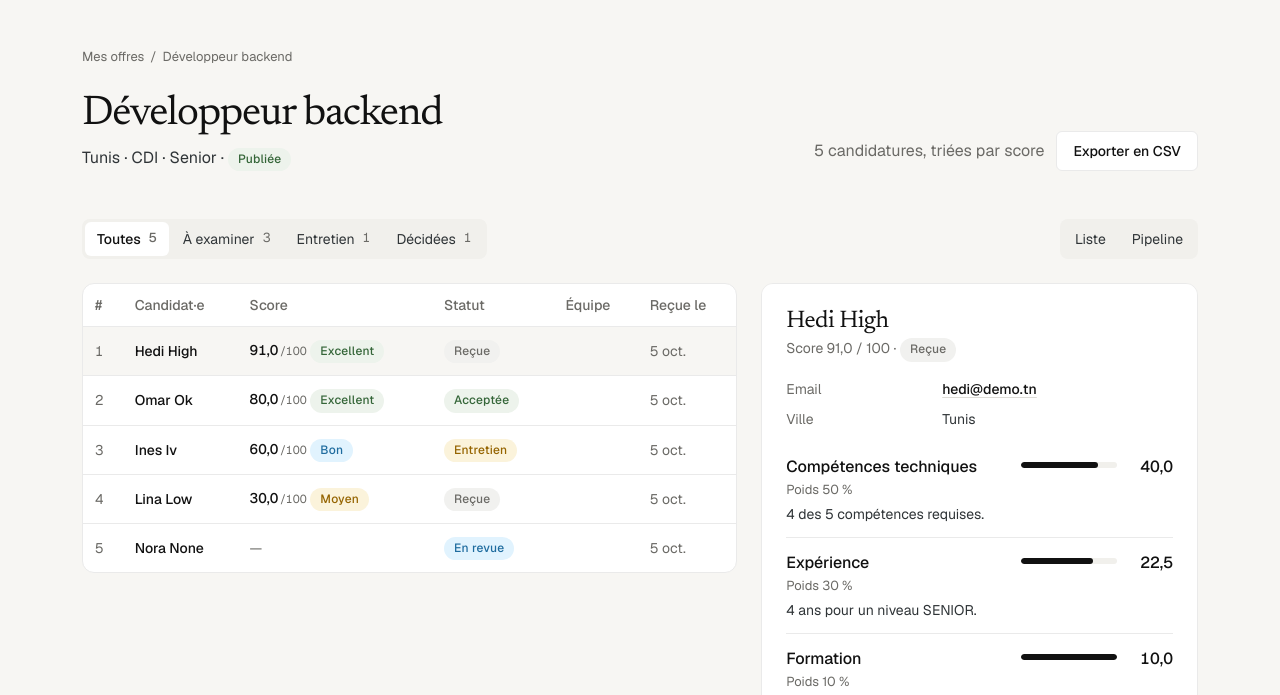
status changes › offers acceptance or rejection after an interview and nothing once decided
Click the row "3 Ines Iv 60,0 /100 Bon Entretien 5 oct.".
click(410, 450)  # box [83,425,736,474]
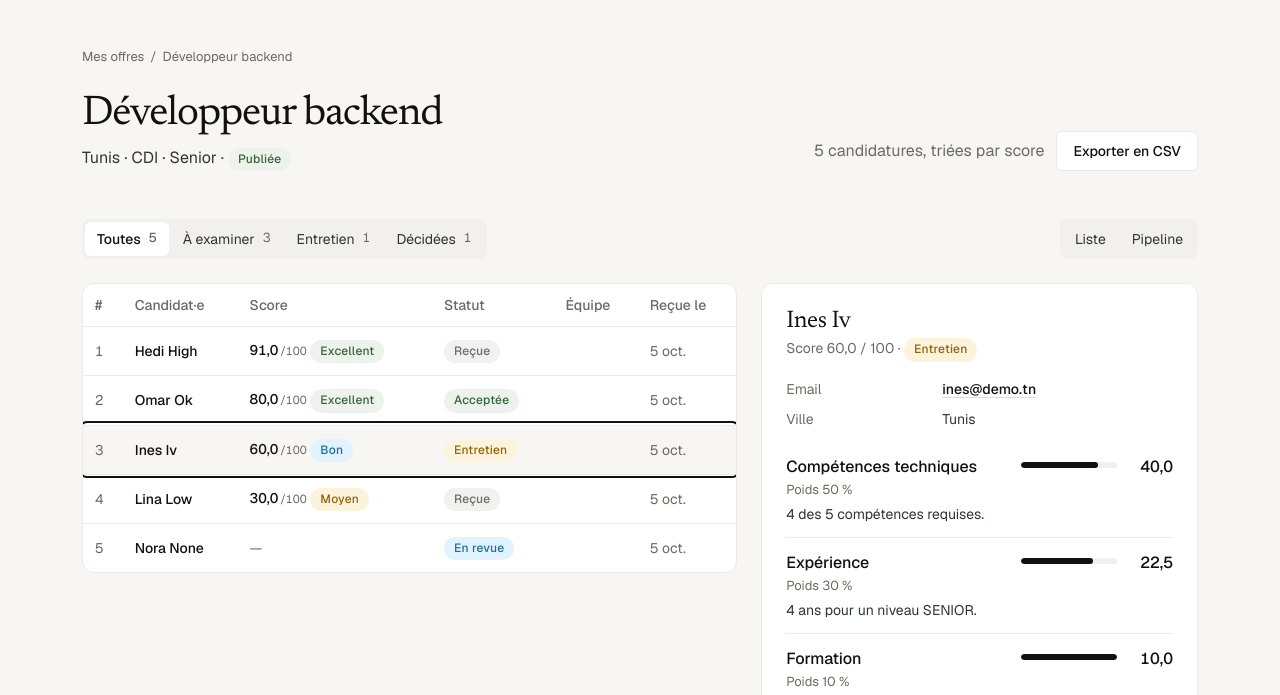
Click the row "2 Omar Ok 80,0 /100 Excellent Acceptée 5 oct.".
click(410, 401)  # box [83,376,736,425]
(page scrolled)
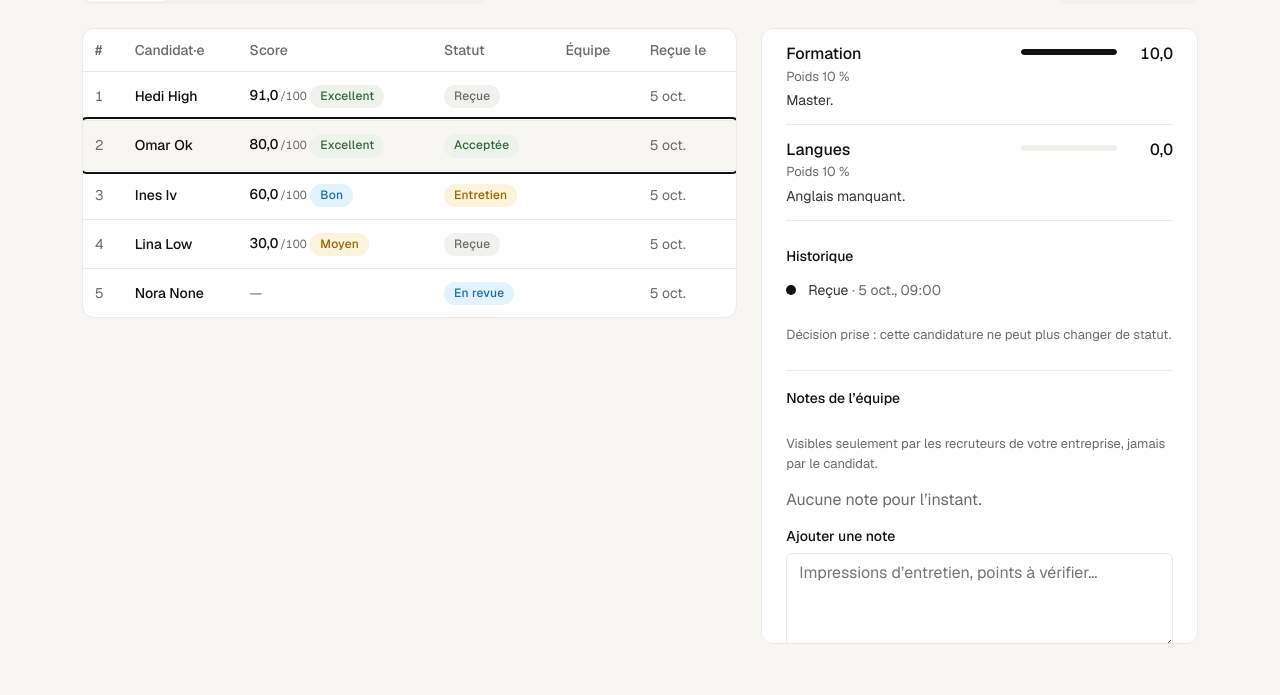
Check: the text "Décision prise" is shown, box [786,326,1171,343]
